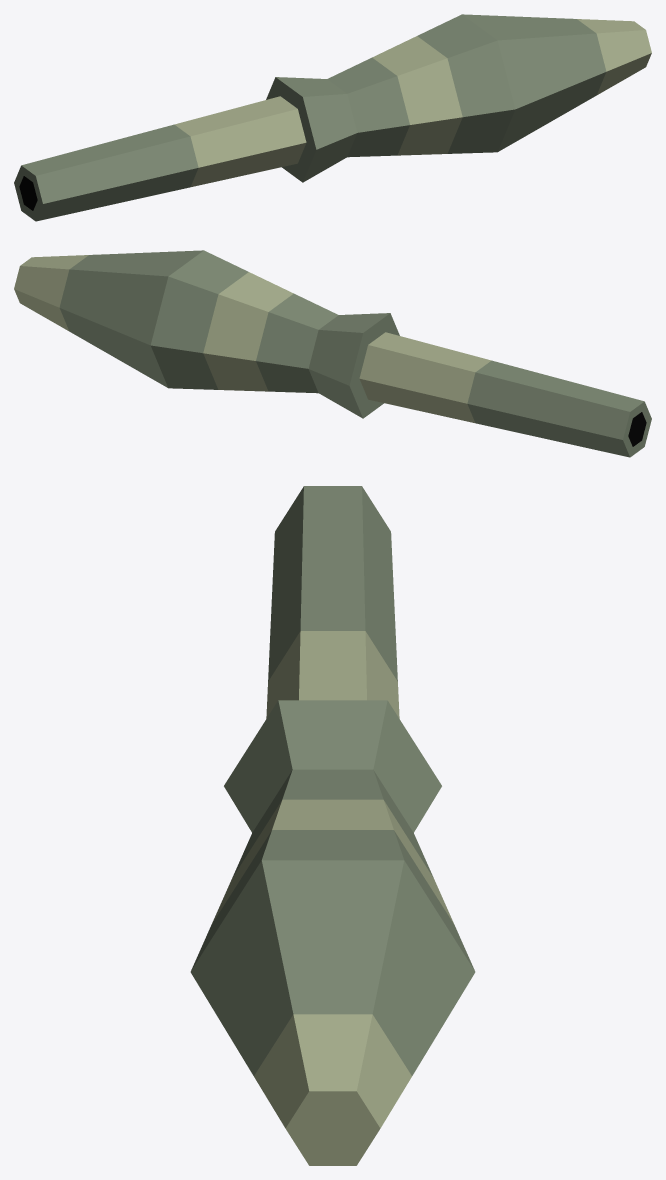
The model's file is Warhead.fbx.
The picture shows the model from 3 angles, top to bottom: view 1: azimuth 30°, elevation 25°; view 2: azimuth 150°, elevation 25°; view 3: azimuth 270°, elevation 25°; orthographic projection. The views are drawn at different scales.
Visible parts, largest first — view 1: Warhead; view 2: Warhead; view 3: Warhead.
Boxes of the visible parts, bbox=[...] form: Warhead: bbox=[14, 14, 651, 221]; Warhead: bbox=[14, 250, 651, 457]; Warhead: bbox=[190, 486, 475, 1165].
Bounding box in the file's own units: 23.09 × 20 × 114.
